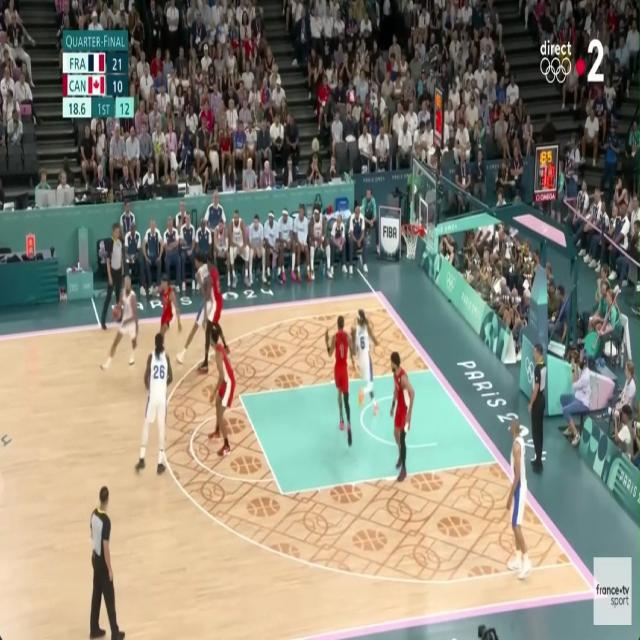ball_handler: (109, 274, 138, 370)
